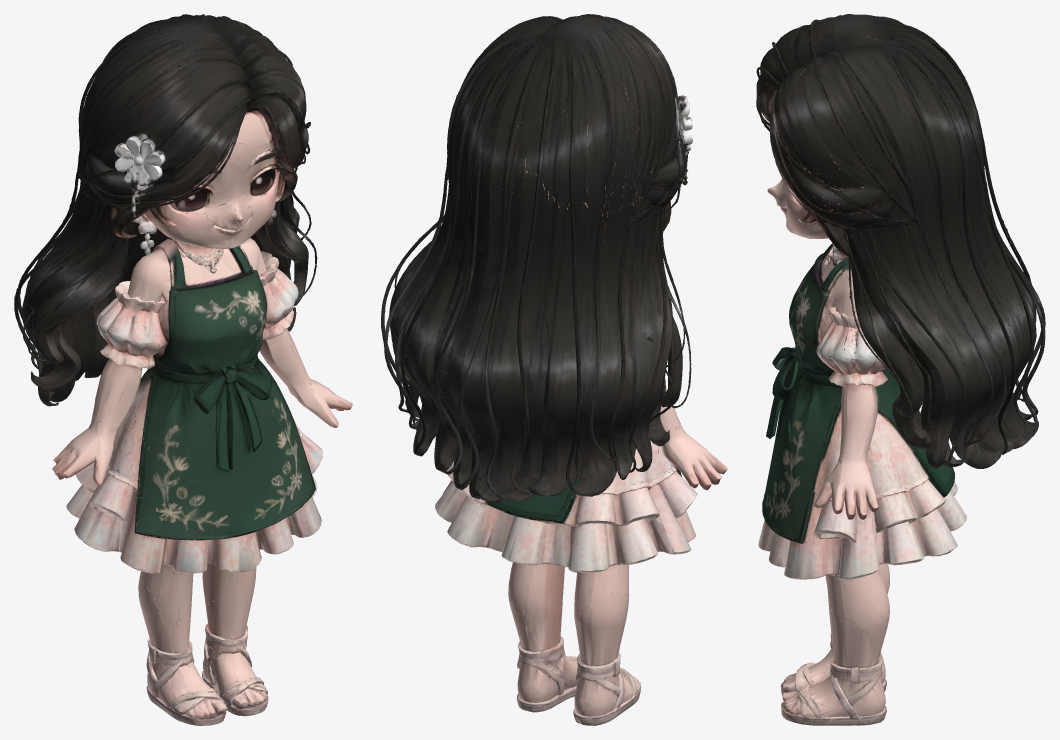
File: chibi-hunyuan-web.glb
The picture shows the model from 3 angles, left to right: view 1: azimuth 30°, elevation 25°; view 2: azimuth 150°, elevation 25°; view 3: azimuth 270°, elevation 25°; orthographic projection. The views are drawn at different scales.
Visible parts, largest first — view 1: node_0; view 2: node_0; view 3: node_0.
Boxes of the visible parts, x1,y1,x2,y2 form: node_0: (14,14,352,725); node_0: (381,14,727,725); node_0: (756,14,1045,725).
Size of the model in its own units: 0.685 by 1.5 by 0.5794.
Materials: 1 (1 with a texture image).
